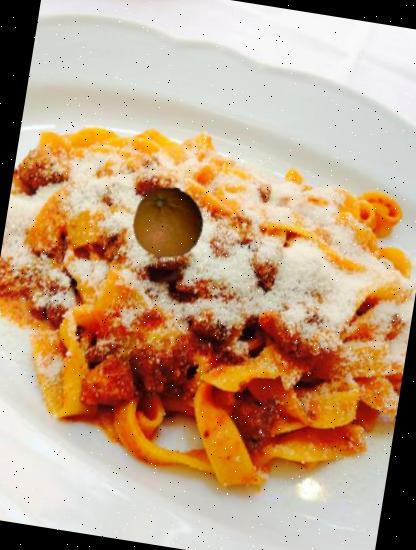Orange: (128, 182, 210, 264)
